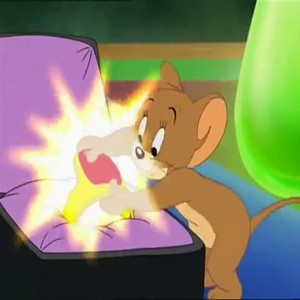Jerry: (143, 58, 250, 298)
